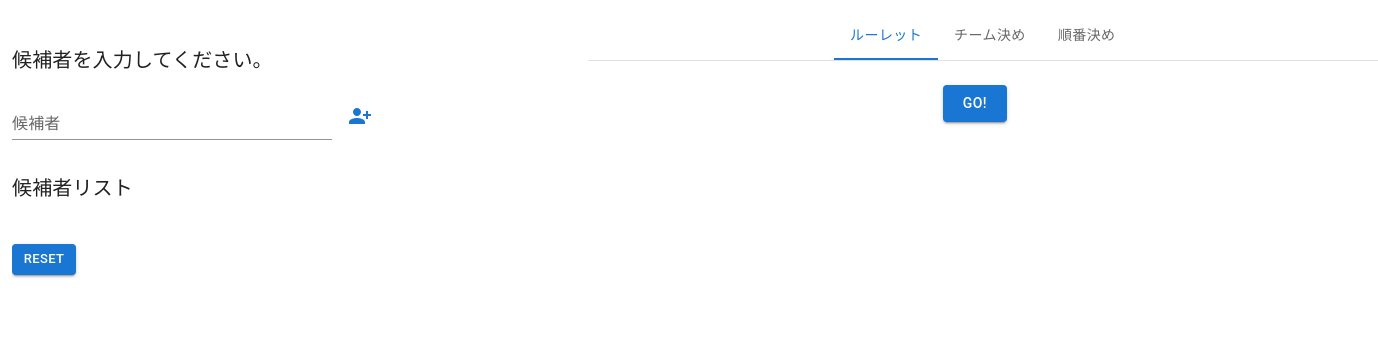
Scenario: 候補者を入力 › 候補者を入力して追加ボタンをクリック
The image size is (1378, 344).
Type "input_test" into the field labelled "候補者" at {"x": 172, "y": 124}, box [12, 108, 332, 140]
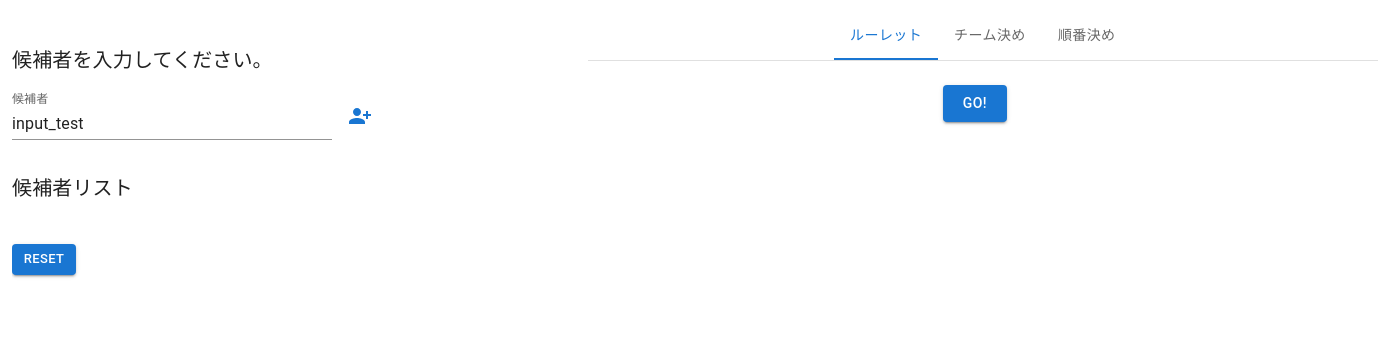
Click the button with test id "PersonAddAlt1Icon" at {"x": 360, "y": 116}, box [348, 104, 372, 128]
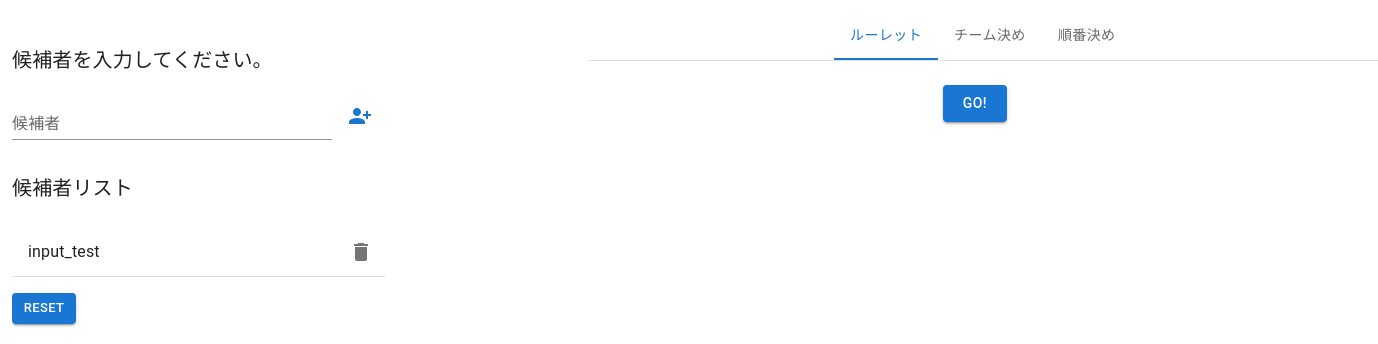
Expected: the text "input_test" is shown, [28, 242, 100, 261]
